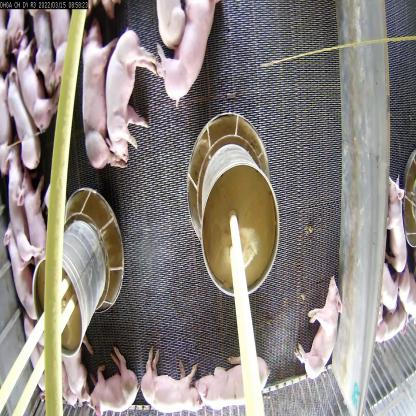Pig: (155, 0, 226, 108), (103, 38, 149, 158), (75, 30, 109, 167), (296, 282, 337, 388), (192, 356, 264, 416), (373, 171, 410, 268), (6, 76, 40, 171), (22, 177, 61, 256), (140, 363, 195, 416), (86, 360, 137, 416), (22, 28, 53, 112), (6, 217, 36, 297)
